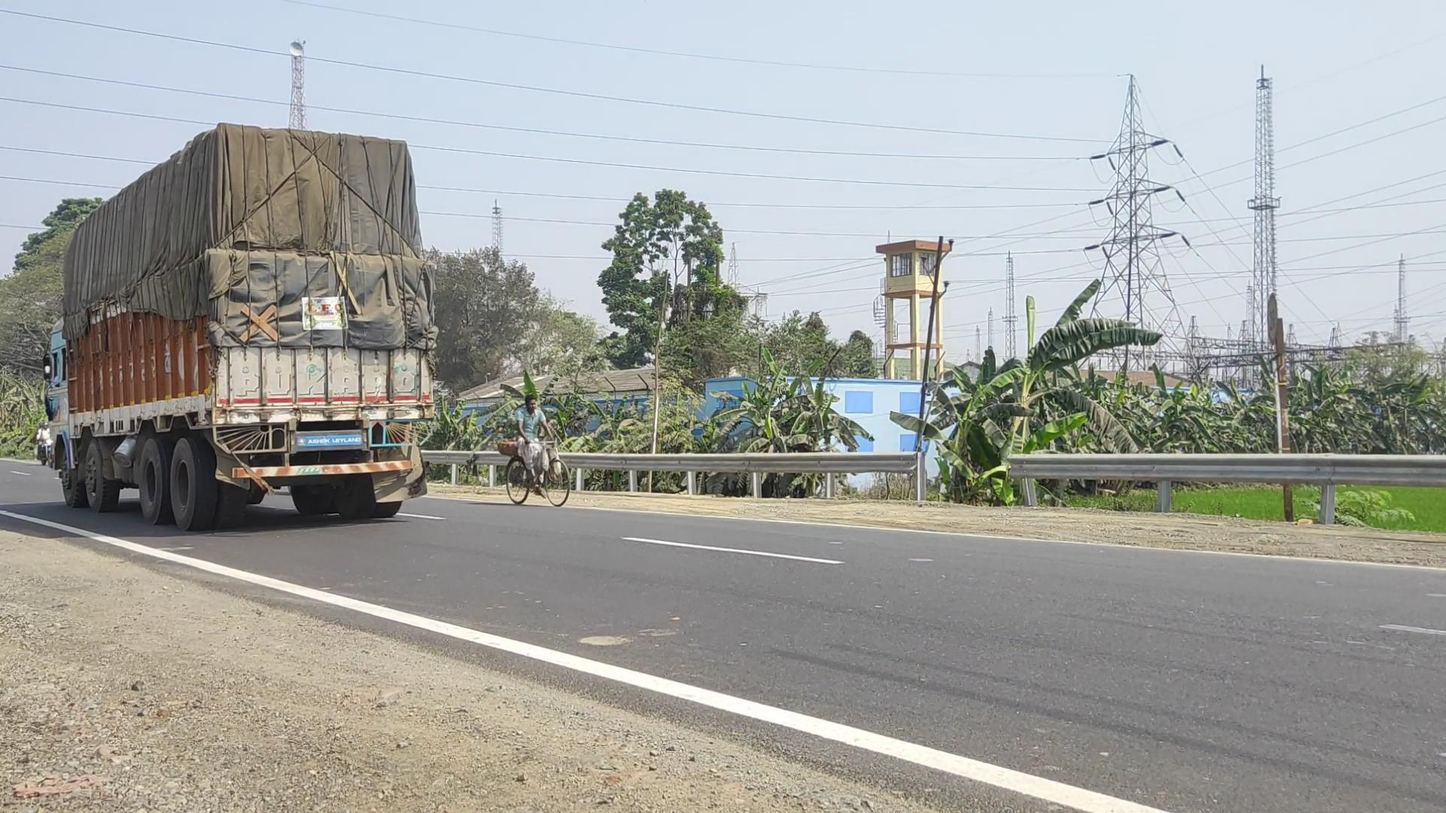bike: (497, 396, 571, 507), (34, 421, 55, 468)
truck: (42, 123, 434, 531)
